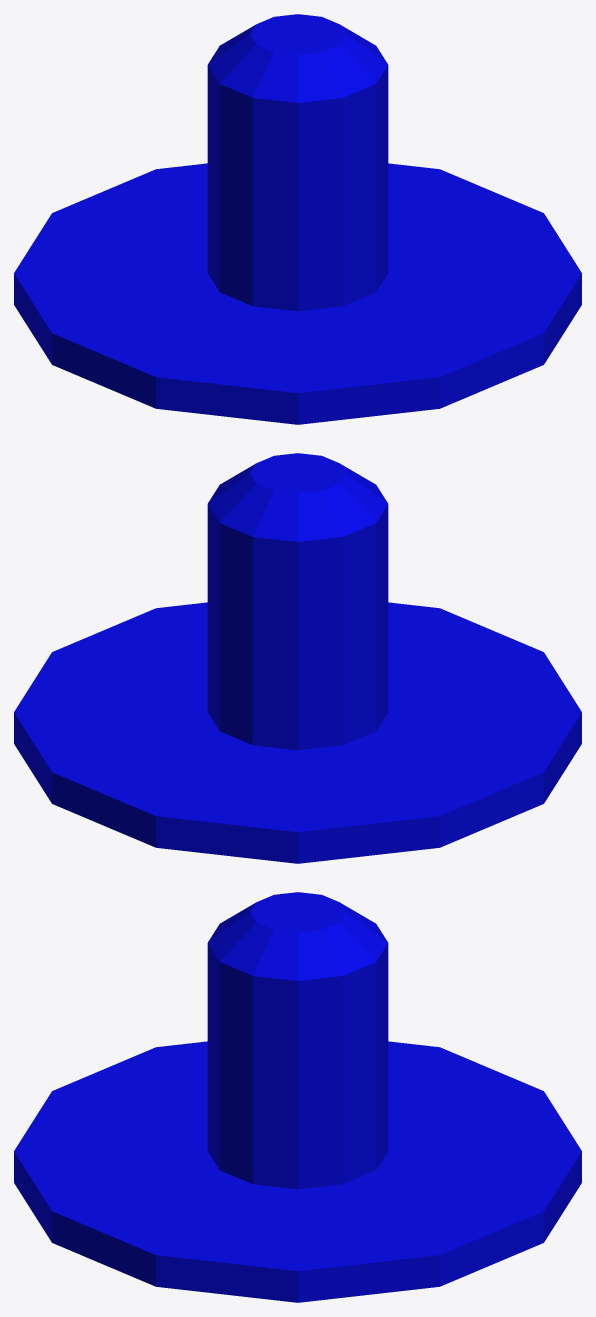
File: handle_blue.glb
3 views of the same model, one above another, from view 1: azimuth 30°, elevation 25°; view 2: azimuth 150°, elevation 25°; view 3: azimuth 270°, elevation 25° (orthographic).
Visible parts, largest first — view 1: handle_blue; view 2: handle_blue; view 3: handle_blue.
Boxes of the visible parts, left/top/right/bottom form: handle_blue: left=14, top=14, right=581, bottom=424; handle_blue: left=14, top=453, right=581, bottom=863; handle_blue: left=14, top=892, right=581, bottom=1302.
Size of the model in its own units: 0.2915 by 0.1531 by 0.2915.
